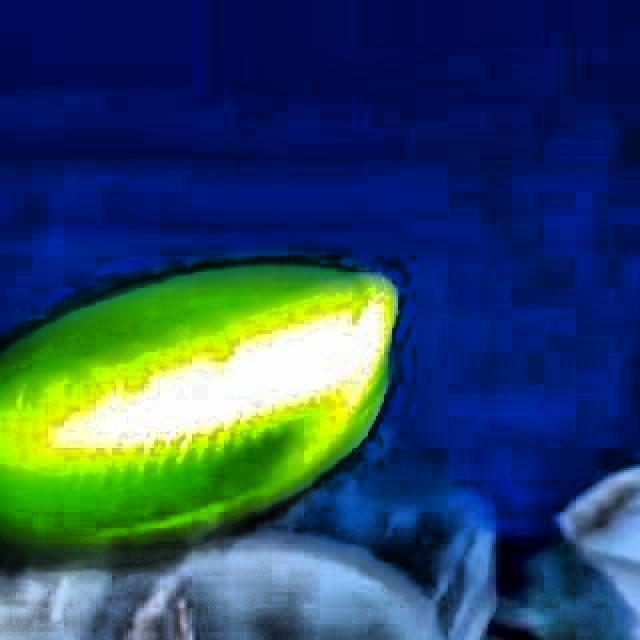plastic: (0, 258, 491, 640)
